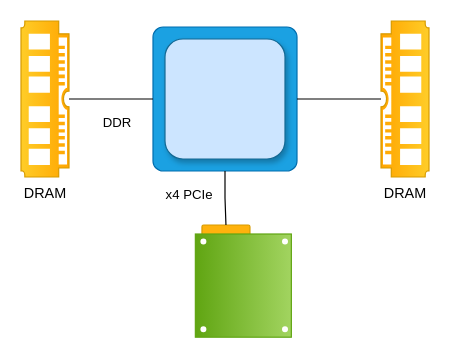
The diagram is 450 pixels wide and 359 high, and some of its shapes have lost their labels. Here are the shapes that lost their labels. From the top down, the centre of each, then its label:
At [225,100]: "CPU".
At [242,285]: "CMM".
